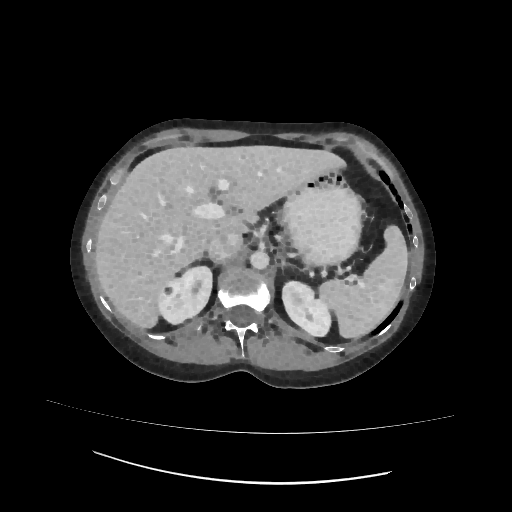Lesion: (160, 283, 177, 299)
